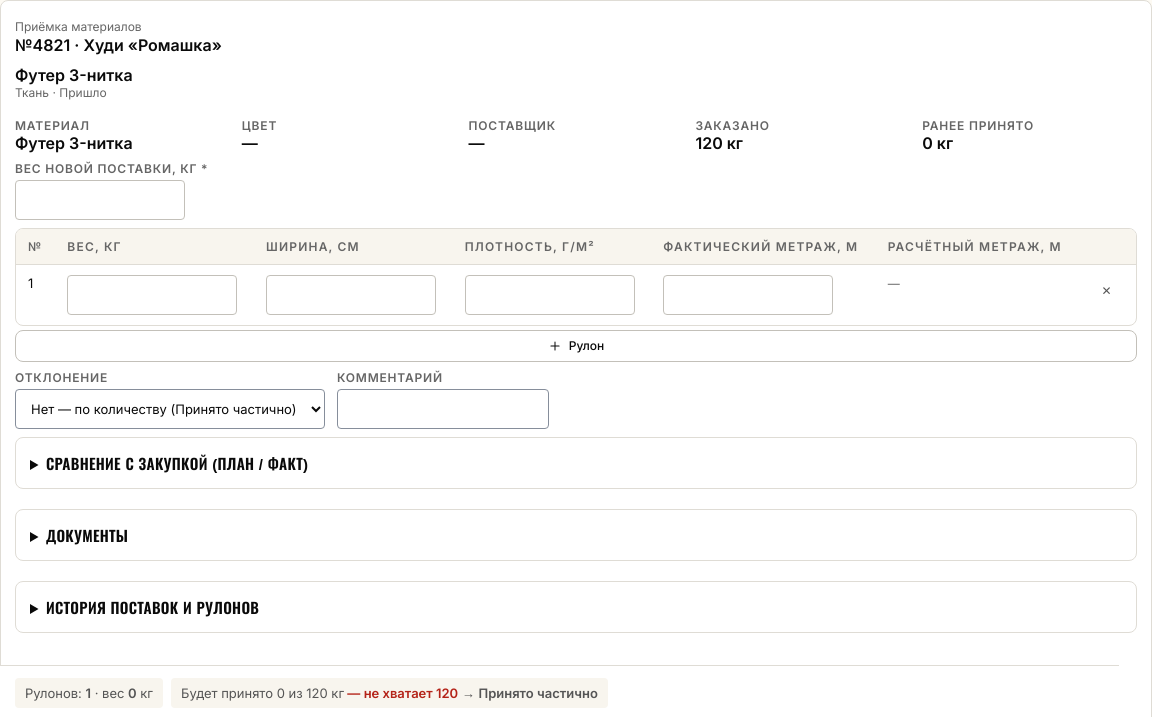
Test: приёмка: статус выводится из чисел › план закрыт — «Принято полностью»
In the number field labelled "Вес новой поставки, кг *": (100, 200) x1=15 y1=180 x2=185 y2=220, type "120"
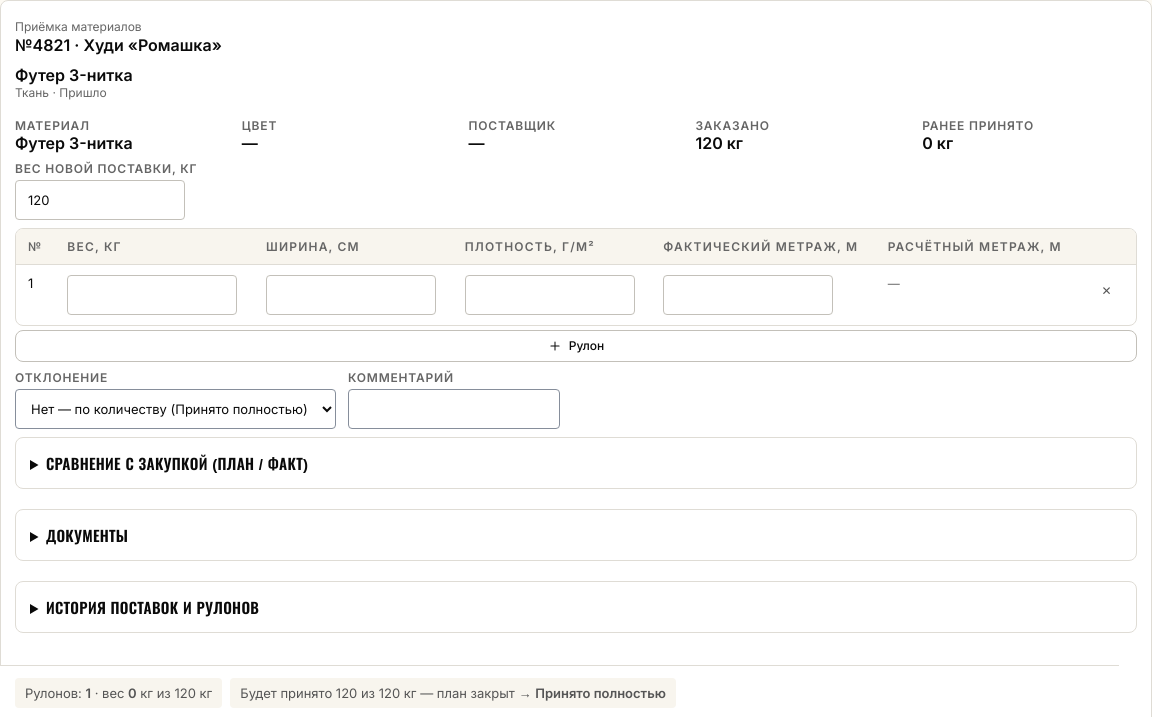
Expected: the text "Будет принято" shows "— план закрыт → Принято полностью", x1=230 y1=678 x2=676 y2=708
